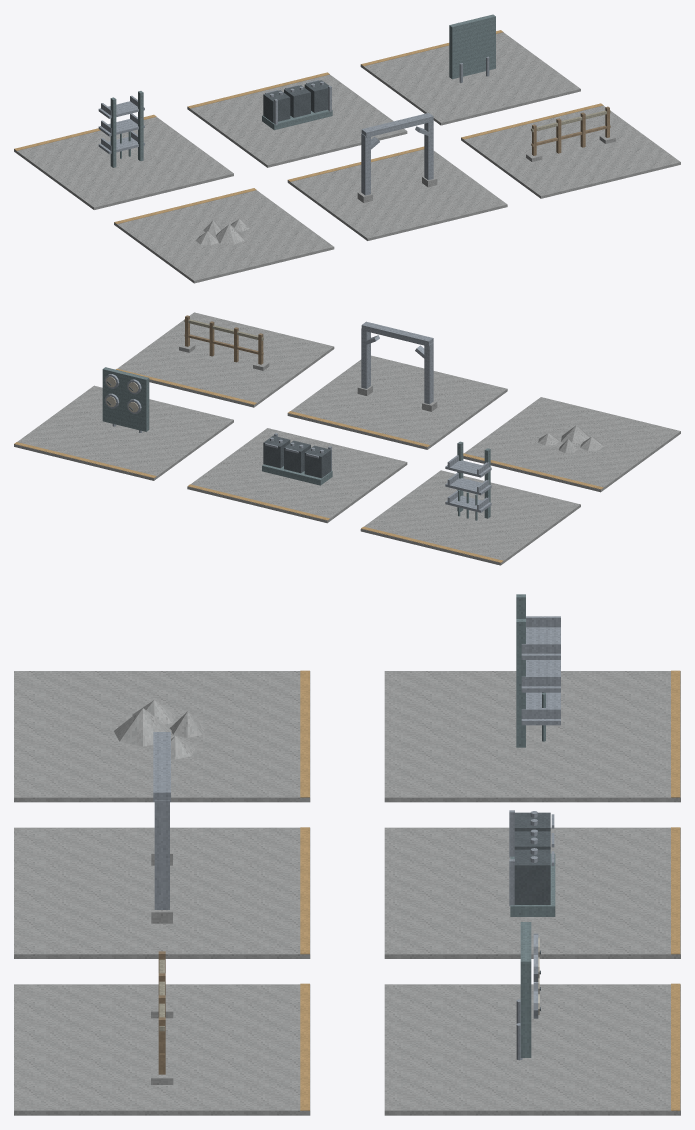
The model's file is level_blockout_kit_wld_18_p06.glb.
3 views of the same model, one above another, from view 1: azimuth 30°, elevation 25°; view 2: azimuth 150°, elevation 25°; view 3: azimuth 270°, elevation 25° (orthographic). The views are drawn at different scales.
Visible parts, largest first — view 1: level_blockout_kit_wld_18_p06; view 2: level_blockout_kit_wld_18_p06; view 3: level_blockout_kit_wld_18_p06.
Part boxes in pixels (x1,y1,x2,y2): level_blockout_kit_wld_18_p06: [14, 14, 680, 283]; level_blockout_kit_wld_18_p06: [14, 312, 680, 565]; level_blockout_kit_wld_18_p06: [14, 594, 680, 1115].
Size of the model in its own units: 19.65 by 2.78 by 12.6.
8 materials, 8 textured.
